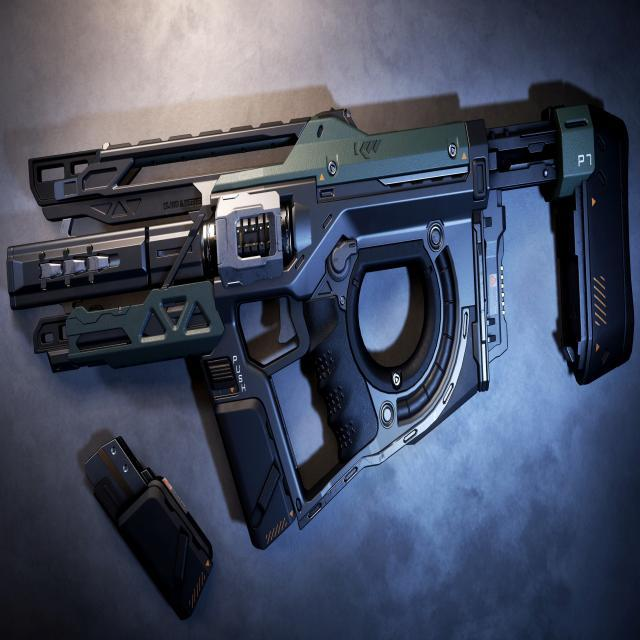rifle: (10, 86, 633, 542)
